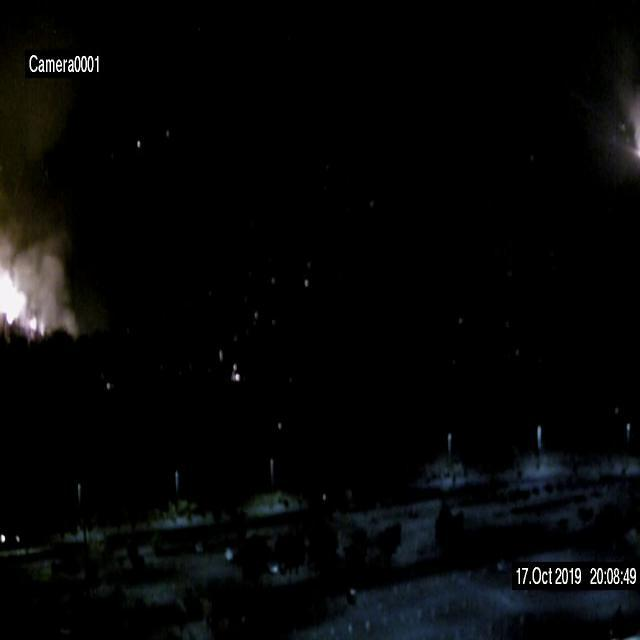Fire: (0, 271, 28, 325), (27, 308, 46, 342)
Smoke: (34, 249, 79, 337)
